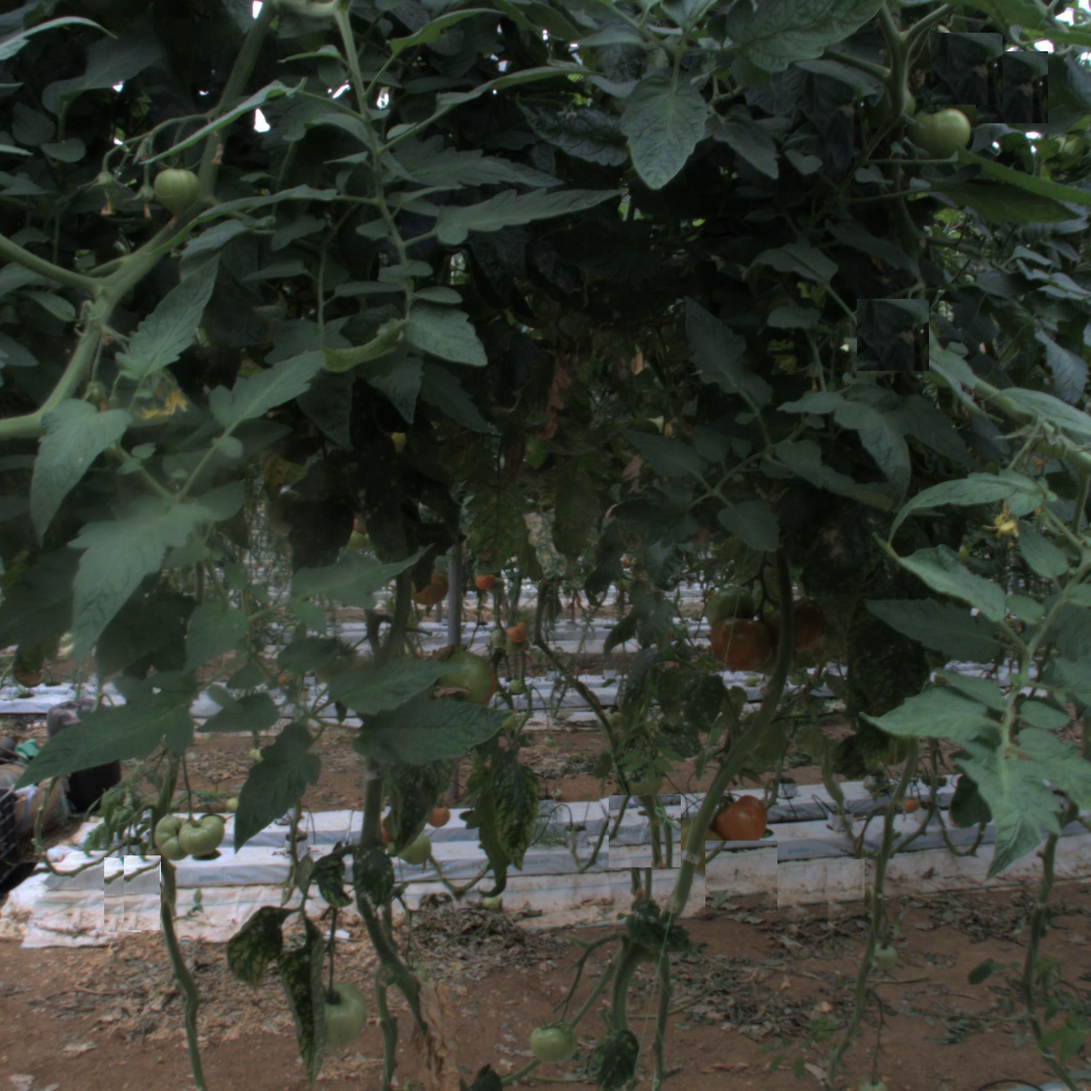fully-ripe: (720, 798, 768, 846)
semi-ripe: (714, 615, 771, 672)
unripe: (439, 652, 495, 709), (310, 985, 367, 1041), (913, 105, 970, 161), (530, 1016, 578, 1064), (154, 813, 202, 861), (176, 808, 224, 856), (153, 165, 201, 213)
